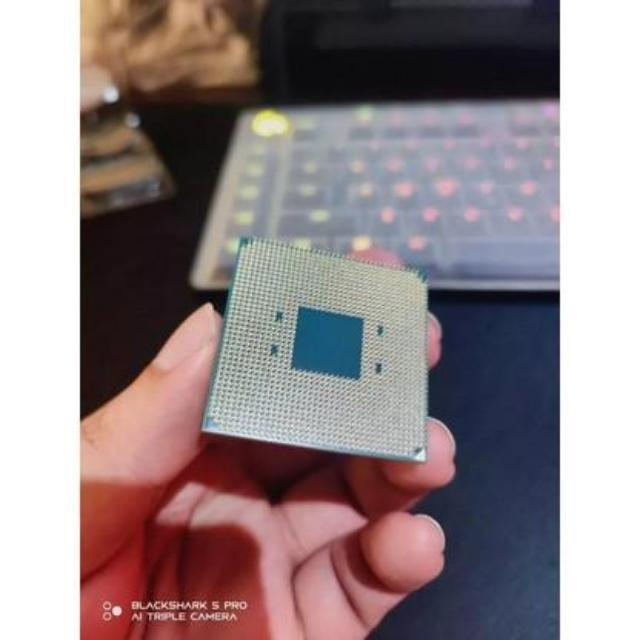CPU: (200, 237, 431, 466)
